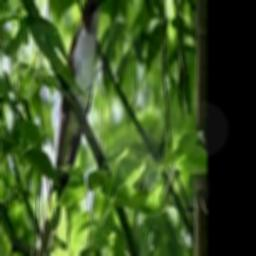Cuckoo: (34, 0, 106, 256)
